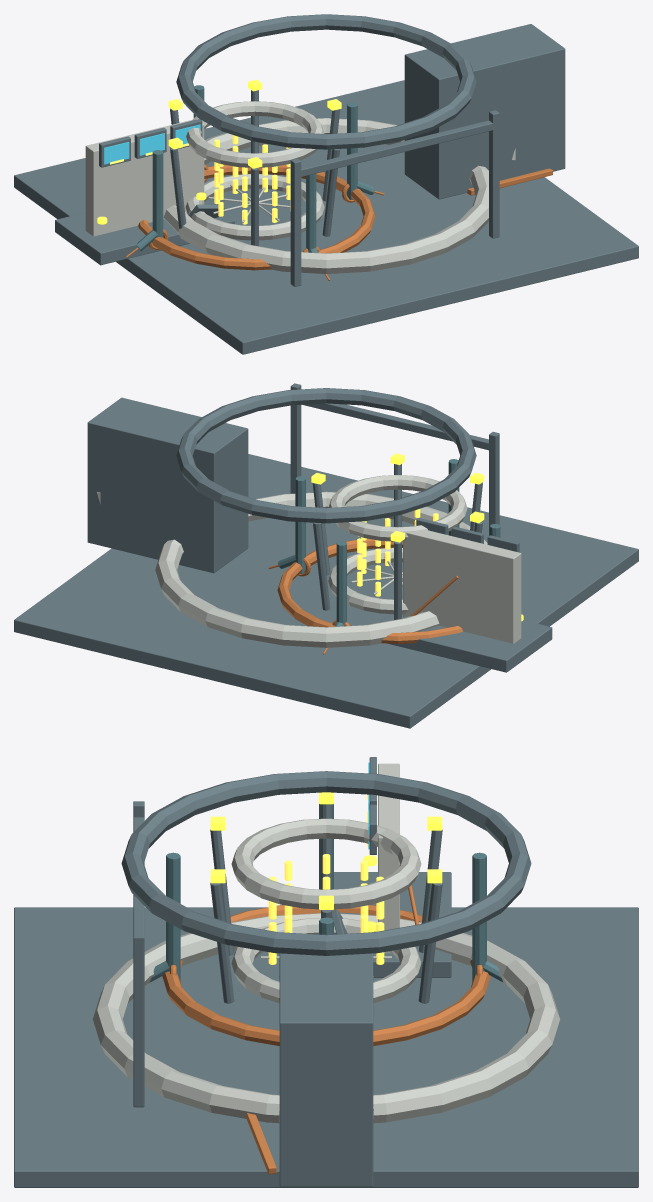
The model's file is micro_reactor_complex_d2.glb.
The picture shows the model from 3 angles, top to bottom: view 1: azimuth 30°, elevation 25°; view 2: azimuth 150°, elevation 25°; view 3: azimuth 270°, elevation 25°; orthographic projection. The views are drawn at different scales.
Visible parts, largest first — view 1: Reactor deck.002, Exchanger frame.002, Upper service ring.002, Open shield ring.002, Open instrument rack.002, Core vessel upper.002, Manifold ring.002, Control skid base.002, Core vessel lower.002, Open safety gantry.002, Gantry upright.004, Gantry upright.005 (+7 smaller); view 2: Reactor deck.002, Exchanger frame.002, Upper service ring.002, Open instrument rack.002, Open shield ring.002, Control skid base.002, Core vessel upper.002, Manifold ring.002, Open safety gantry.002, Core vessel lower.002, Gantry upright.005, Gantry upright.004 (+4 smaller); view 3: Reactor deck.002, Exchanger frame.002, Upper service ring.002, Open shield ring.002, Core vessel upper.002, Manifold ring.002, Core vessel lower.002, Control skid base.002, Gantry upright.005, Open instrument rack.002, Coolant riser.009, Coolant riser.011 (+5 smaller).
Boxes of the visible parts, box(x1,y1,x2,y2) form: Reactor deck.002: box(14, 80, 638, 354); Exchanger frame.002: box(404, 24, 565, 199); Upper service ring.002: box(176, 14, 476, 149); Open shield ring.002: box(163, 118, 488, 273); Open instrument rack.002: box(85, 120, 204, 236); Core vessel upper.002: box(186, 101, 324, 167); Manifold ring.002: box(138, 164, 375, 270); Control skid base.002: box(55, 200, 234, 265); Core vessel lower.002: box(185, 174, 324, 240); Open safety gantry.002: box(301, 120, 493, 176); Gantry upright.004: box(290, 158, 301, 286); Gantry upright.005: box(489, 110, 499, 238); Reactor deck.002: box(14, 454, 638, 728); Exchanger frame.002: box(87, 397, 248, 573); Upper service ring.002: box(176, 388, 476, 523); Open instrument rack.002: box(403, 530, 521, 643); Open shield ring.002: box(155, 491, 487, 647); Control skid base.002: box(379, 614, 552, 672); Core vessel upper.002: box(328, 475, 467, 541); Manifold ring.002: box(277, 538, 462, 643); Open safety gantry.002: box(302, 403, 491, 450); Core vessel lower.002: box(328, 547, 408, 614); Gantry upright.005: box(290, 383, 301, 493); Gantry upright.004: box(489, 431, 499, 535); Reactor deck.002: box(14, 907, 638, 1187); Exchanger frame.002: box(279, 953, 373, 1186); Upper service ring.002: box(121, 771, 531, 955); Open shield ring.002: box(92, 913, 560, 1123); Core vessel upper.002: box(231, 818, 421, 909); Manifold ring.002: box(162, 905, 490, 1045); Core vessel lower.002: box(231, 918, 421, 1003); Control skid base.002: box(334, 872, 451, 977); Gantry upright.005: box(133, 933, 144, 1107); Open instrument rack.002: box(378, 763, 399, 953); Coolant riser.009: box(472, 852, 486, 982); Coolant riser.011: box(166, 852, 180, 982).
Bounding box in the file's own units: 11.3 × 3.58 × 10.
